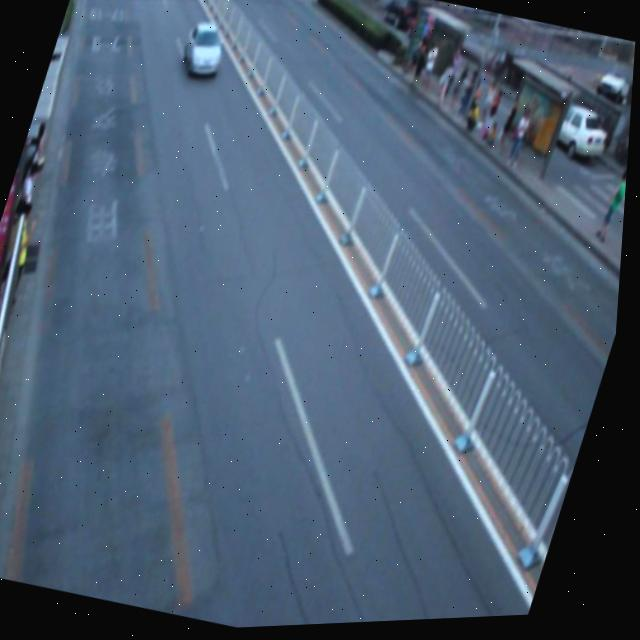car: (176, 19, 232, 83)
